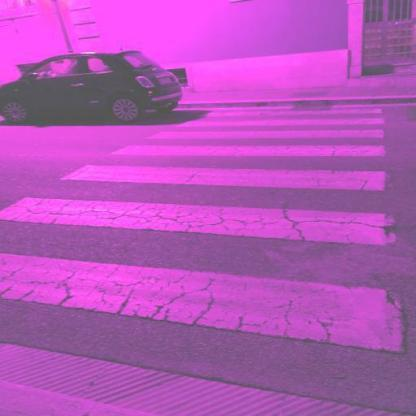crosswalk: (58, 140, 390, 197)
